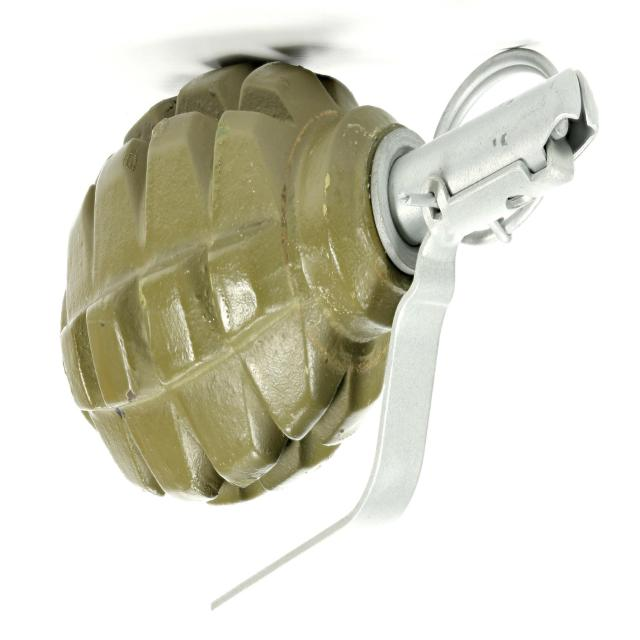grenade: (62, 41, 599, 612)
